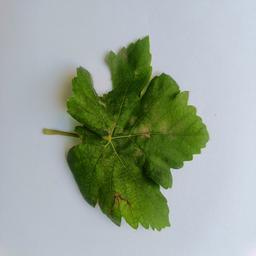Powdery-Mildew: (108, 109, 136, 140), (111, 193, 134, 214), (138, 124, 154, 139), (134, 146, 149, 161)
